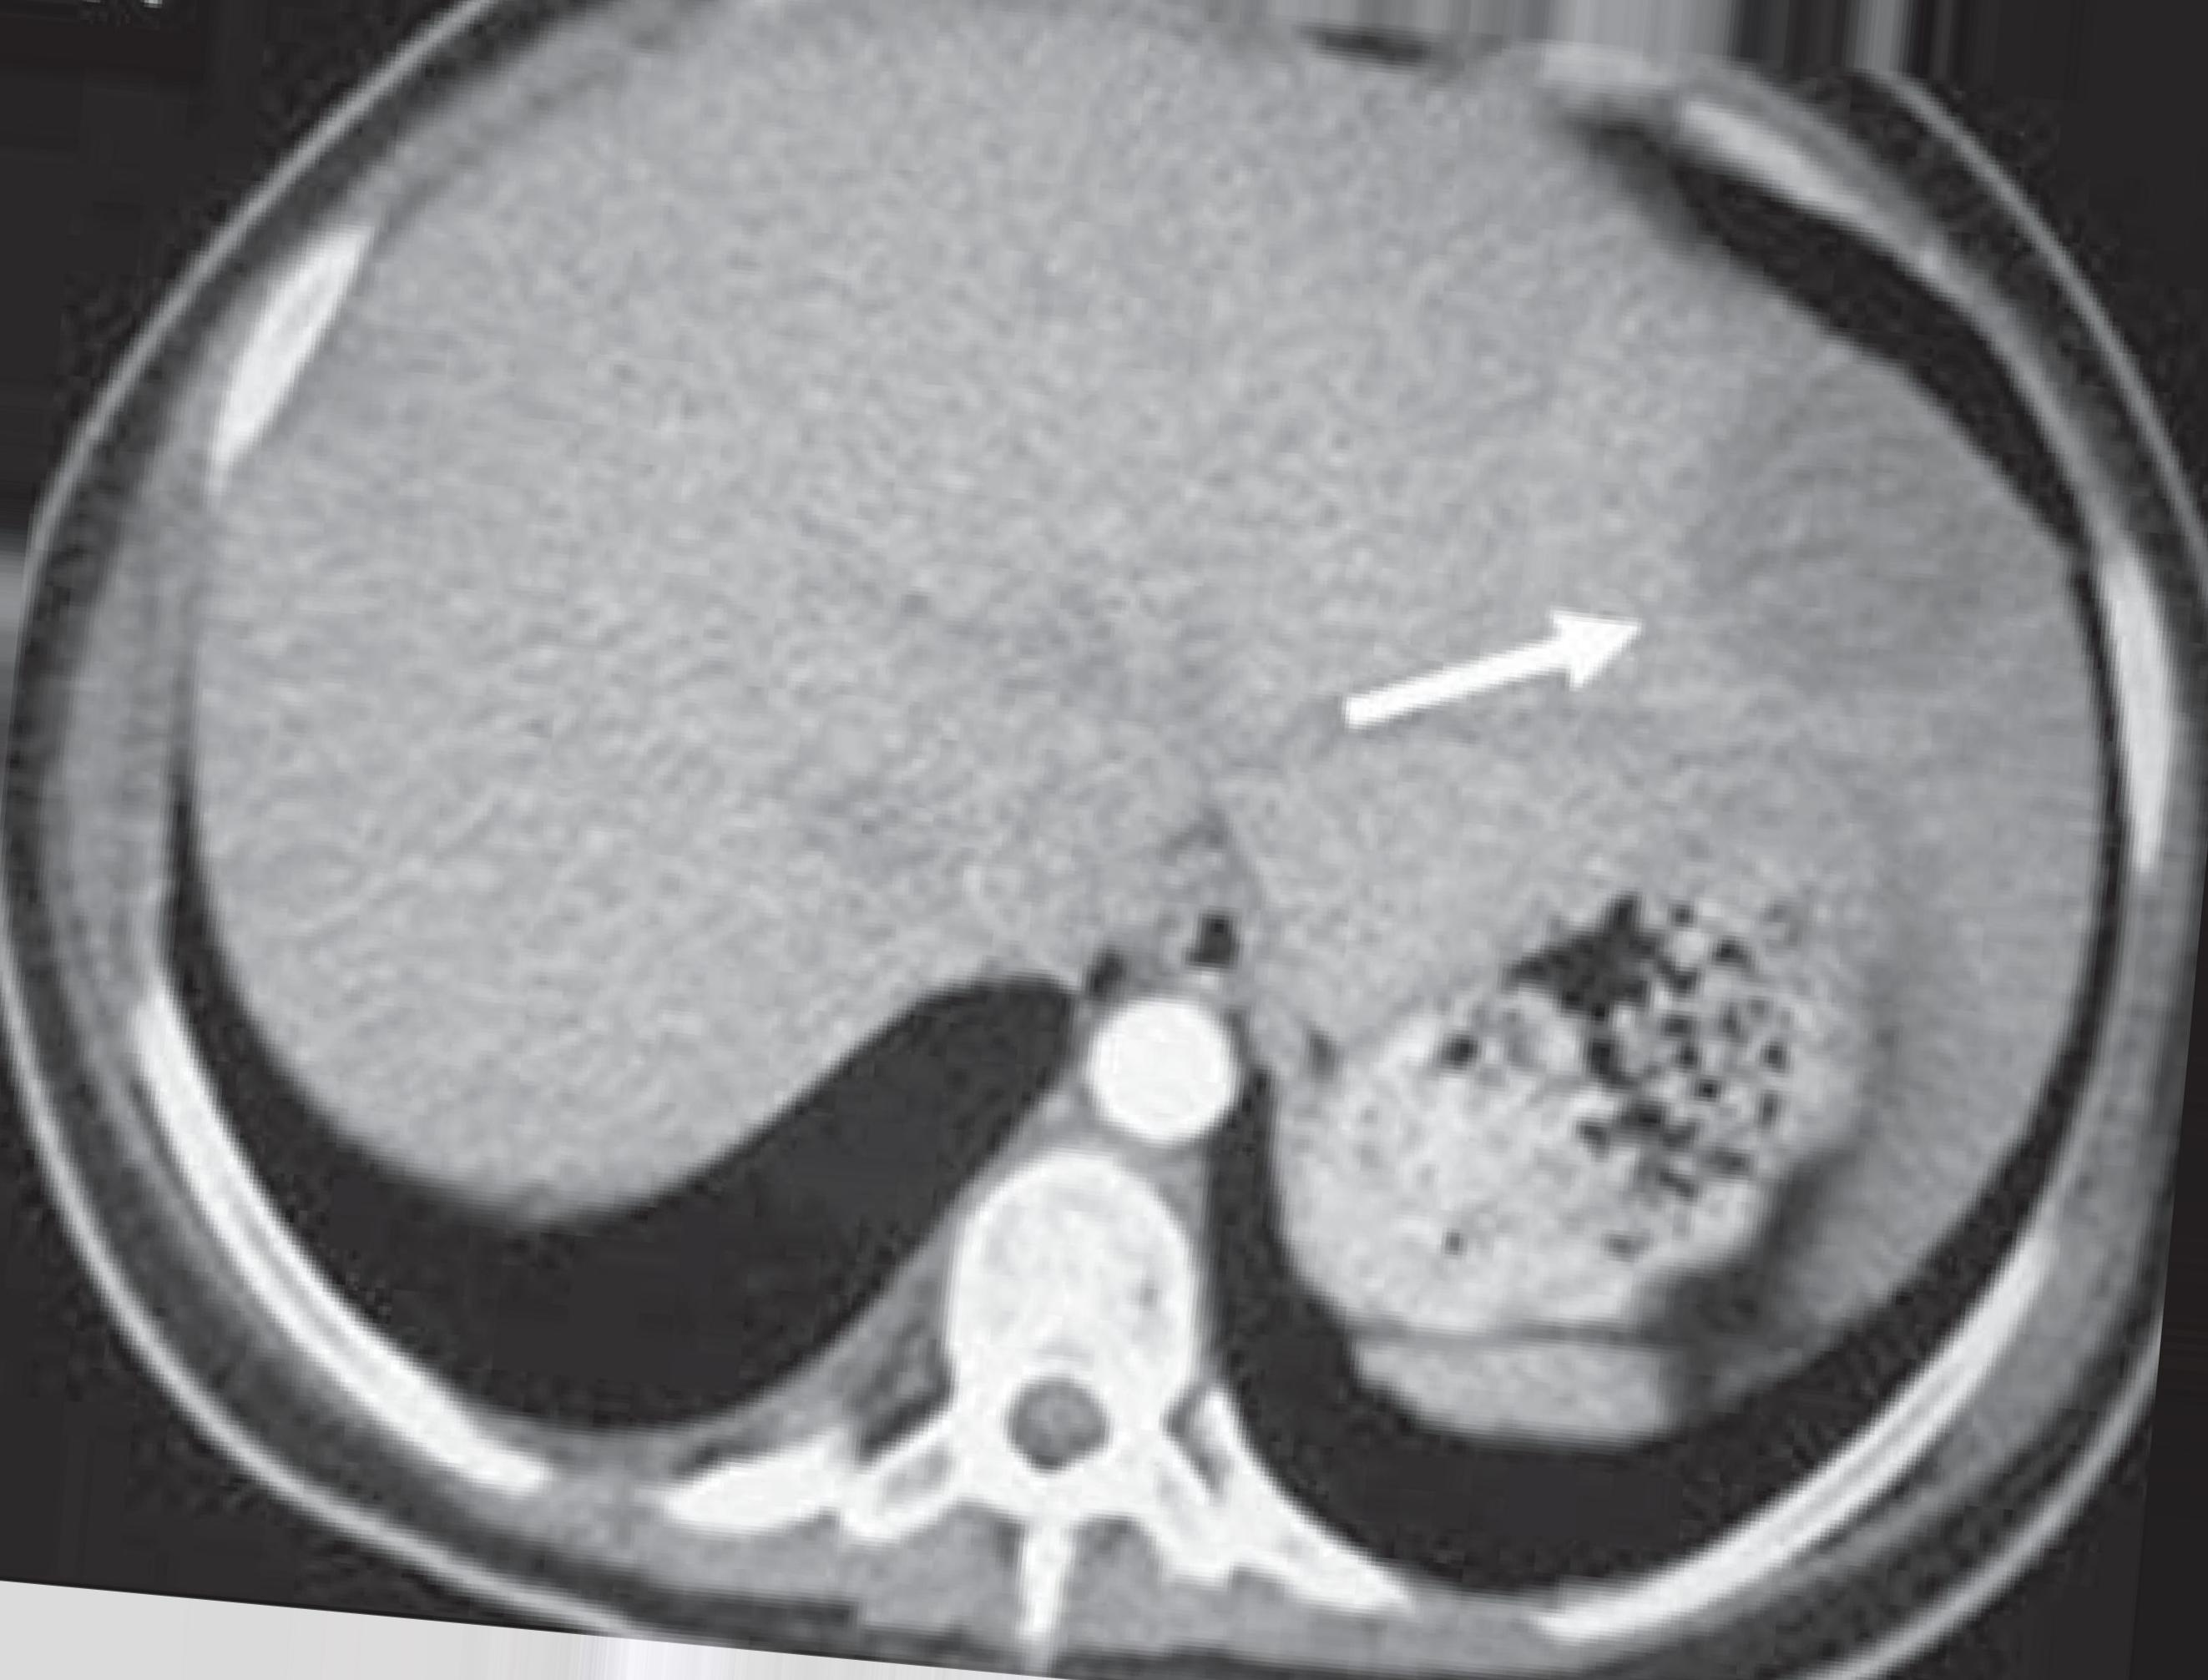anomaly: (1645, 362, 2003, 697)
